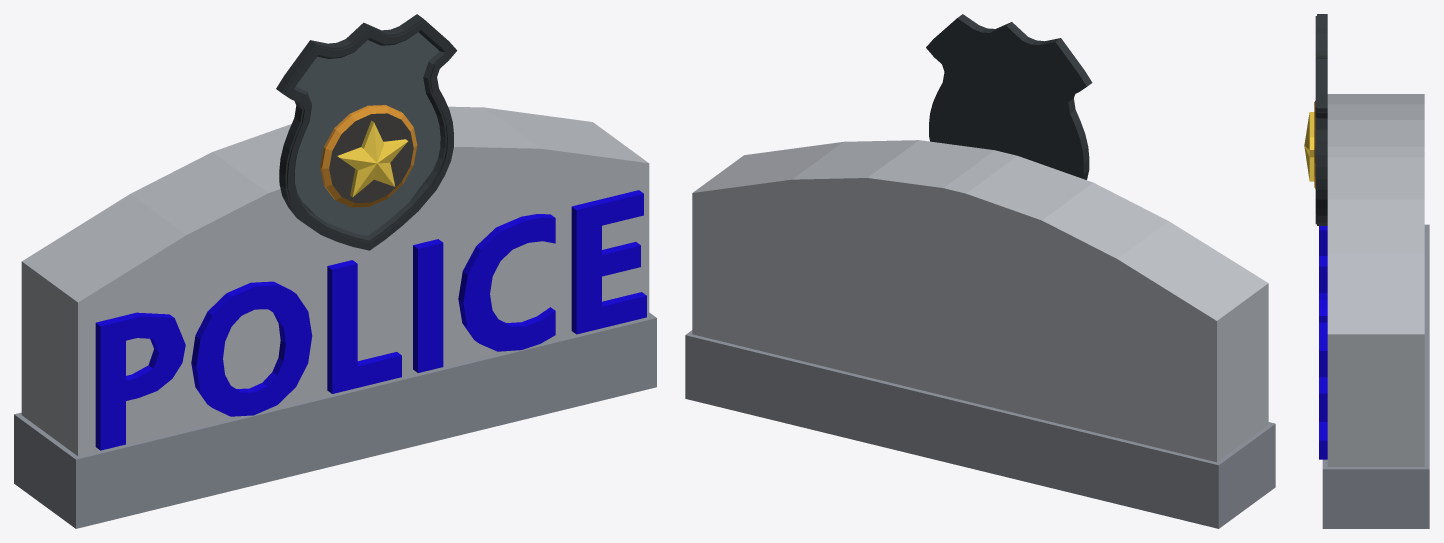
The model's file is Police_Station_Sign.gltf.
3 views of the same model, side by side, from view 1: azimuth 30°, elevation 25°; view 2: azimuth 150°, elevation 25°; view 3: azimuth 270°, elevation 25° (orthographic). The views are drawn at different scales.
Parts seen in each view (by area): view 1: Police_Station_Sign; view 2: Police_Station_Sign; view 3: Police_Station_Sign.
Boxes of the visible parts, bbox=[...] form: Police_Station_Sign: bbox=[14, 14, 656, 528]; Police_Station_Sign: bbox=[685, 14, 1275, 528]; Police_Station_Sign: bbox=[1304, 14, 1429, 528].
Bounding box in the file's own units: 2.81 × 2.01 × 0.6094.
